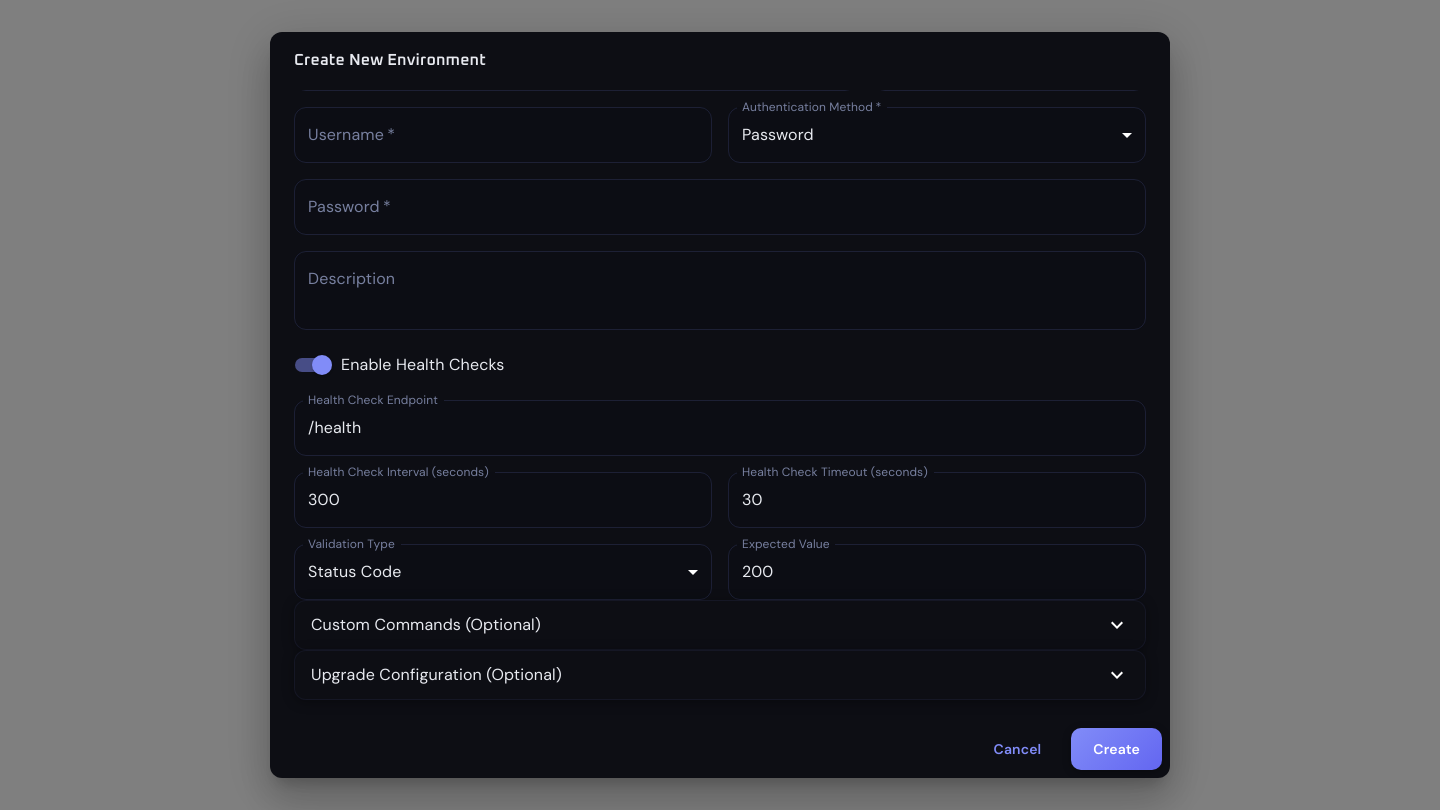
Test: CreateEnvironmentDialog › switches to HTTP command type and shows URL field
(page scrolled)
expect the text "Custom Commands (Optional)" is shown: met, box [311, 612, 541, 636]
Click the button "Custom Commands (Optional)".
click(426, 624)  # box [311, 612, 1129, 636]
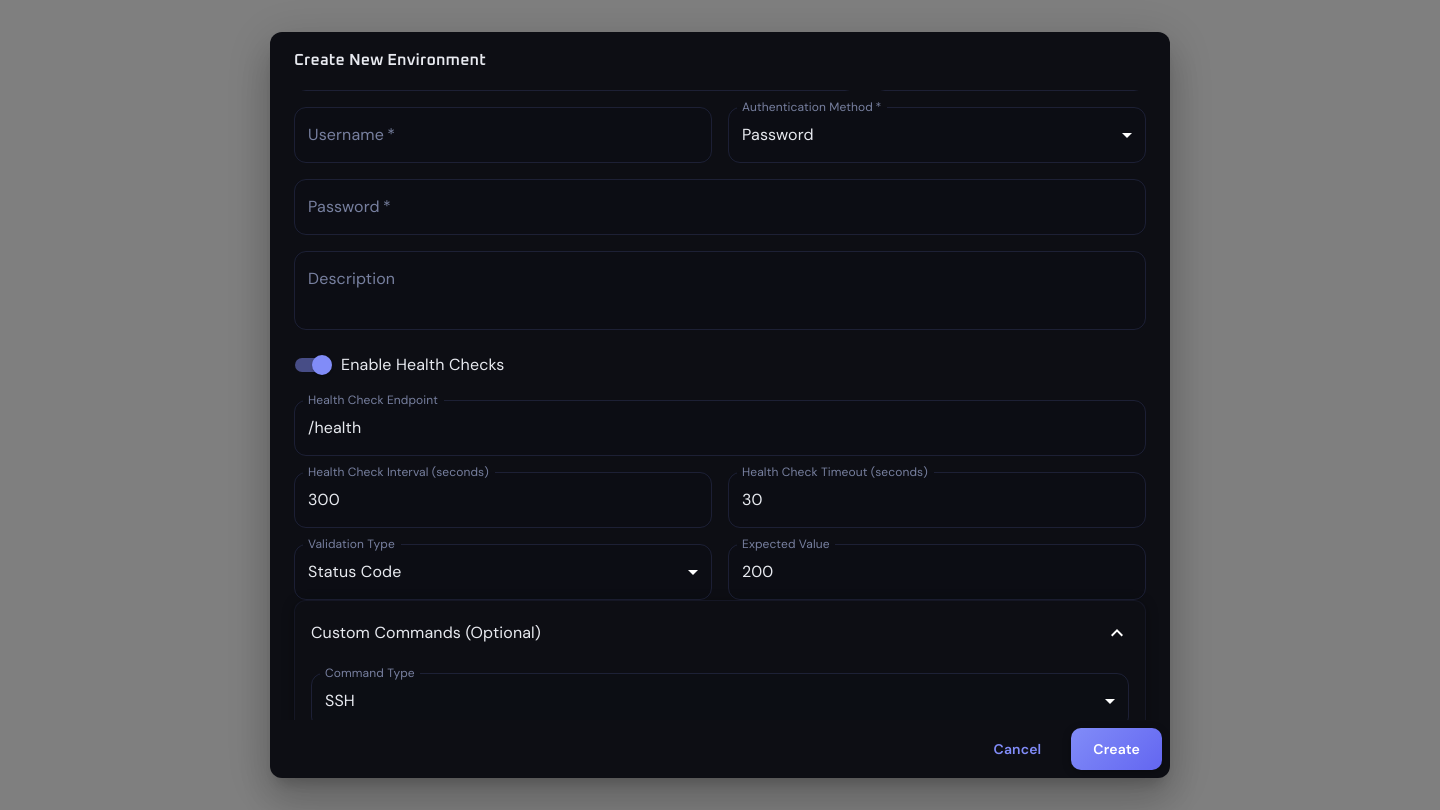
expect the dropdown named "command type" is shown: met
Press the mouse on the dropdown named "command type" at (340, 700), box [325, 690, 355, 711]
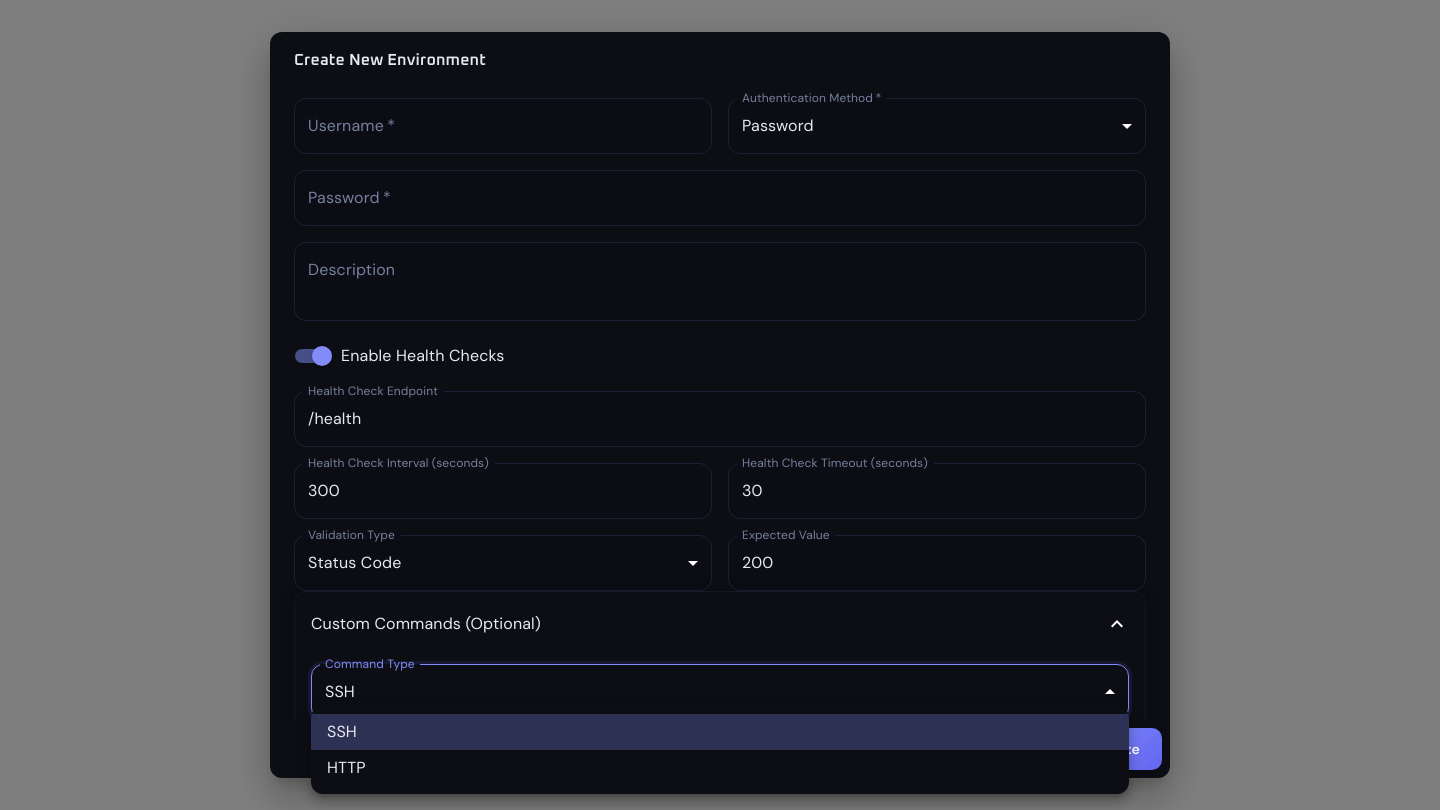
Click the option "HTTP".
click(346, 768)  # box [327, 757, 366, 778]
(page scrolled)
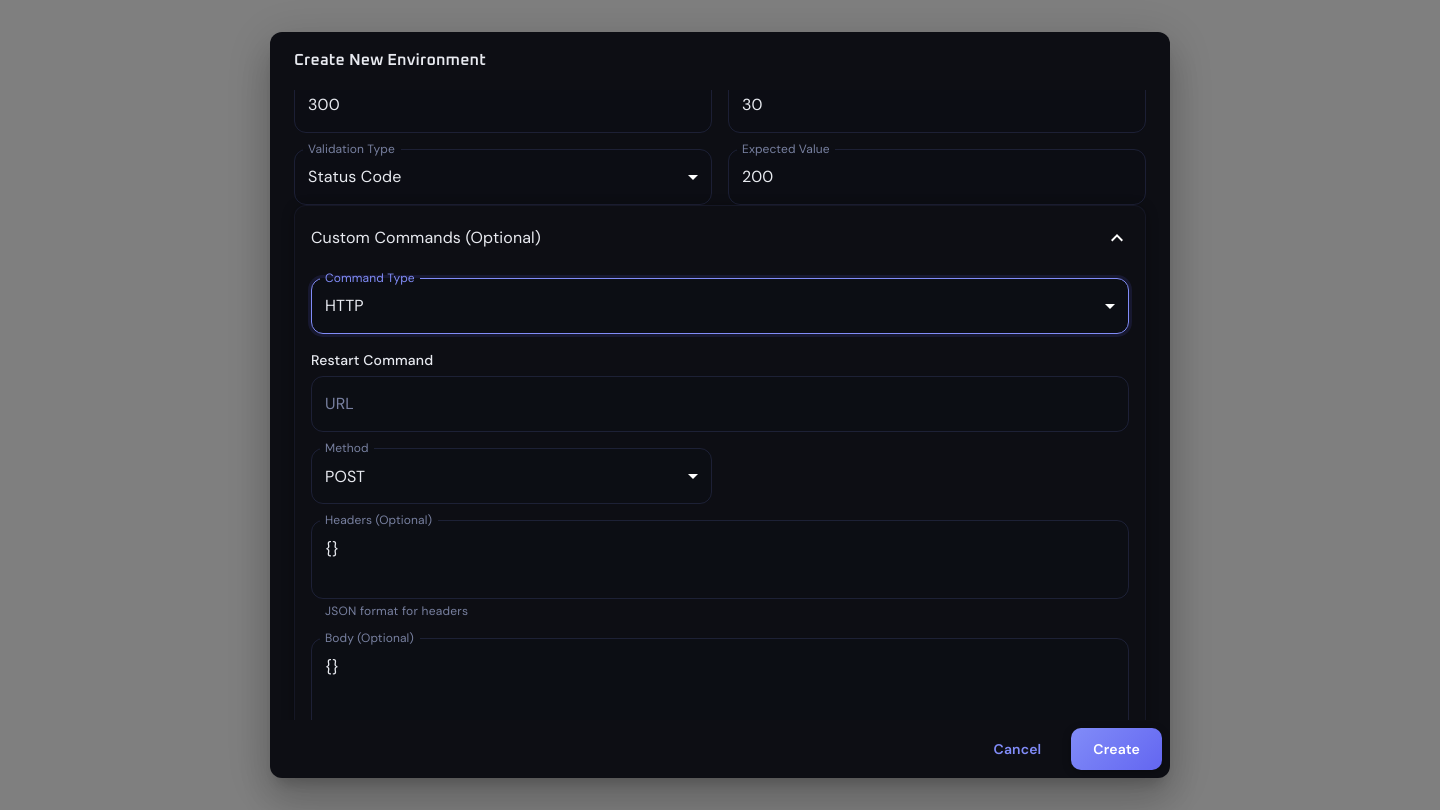
expect the field with placeholder "http://localhost:8080/restart" is shown: met, box [311, 376, 1129, 432]
